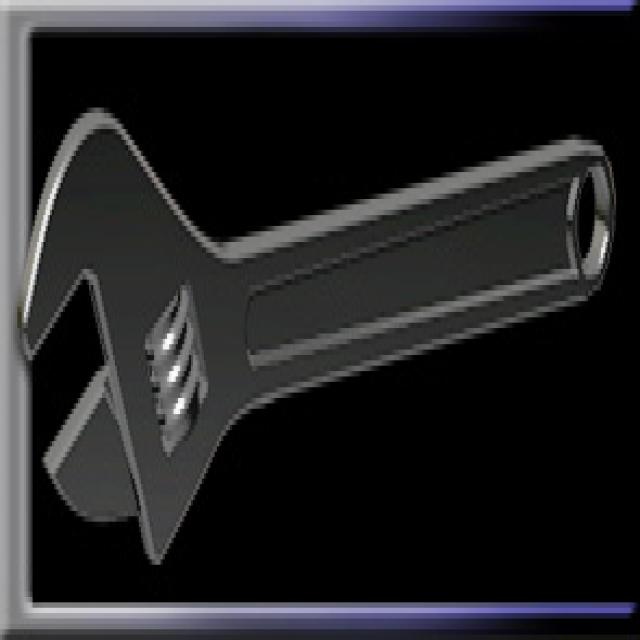wrench: (0, 89, 626, 589)
